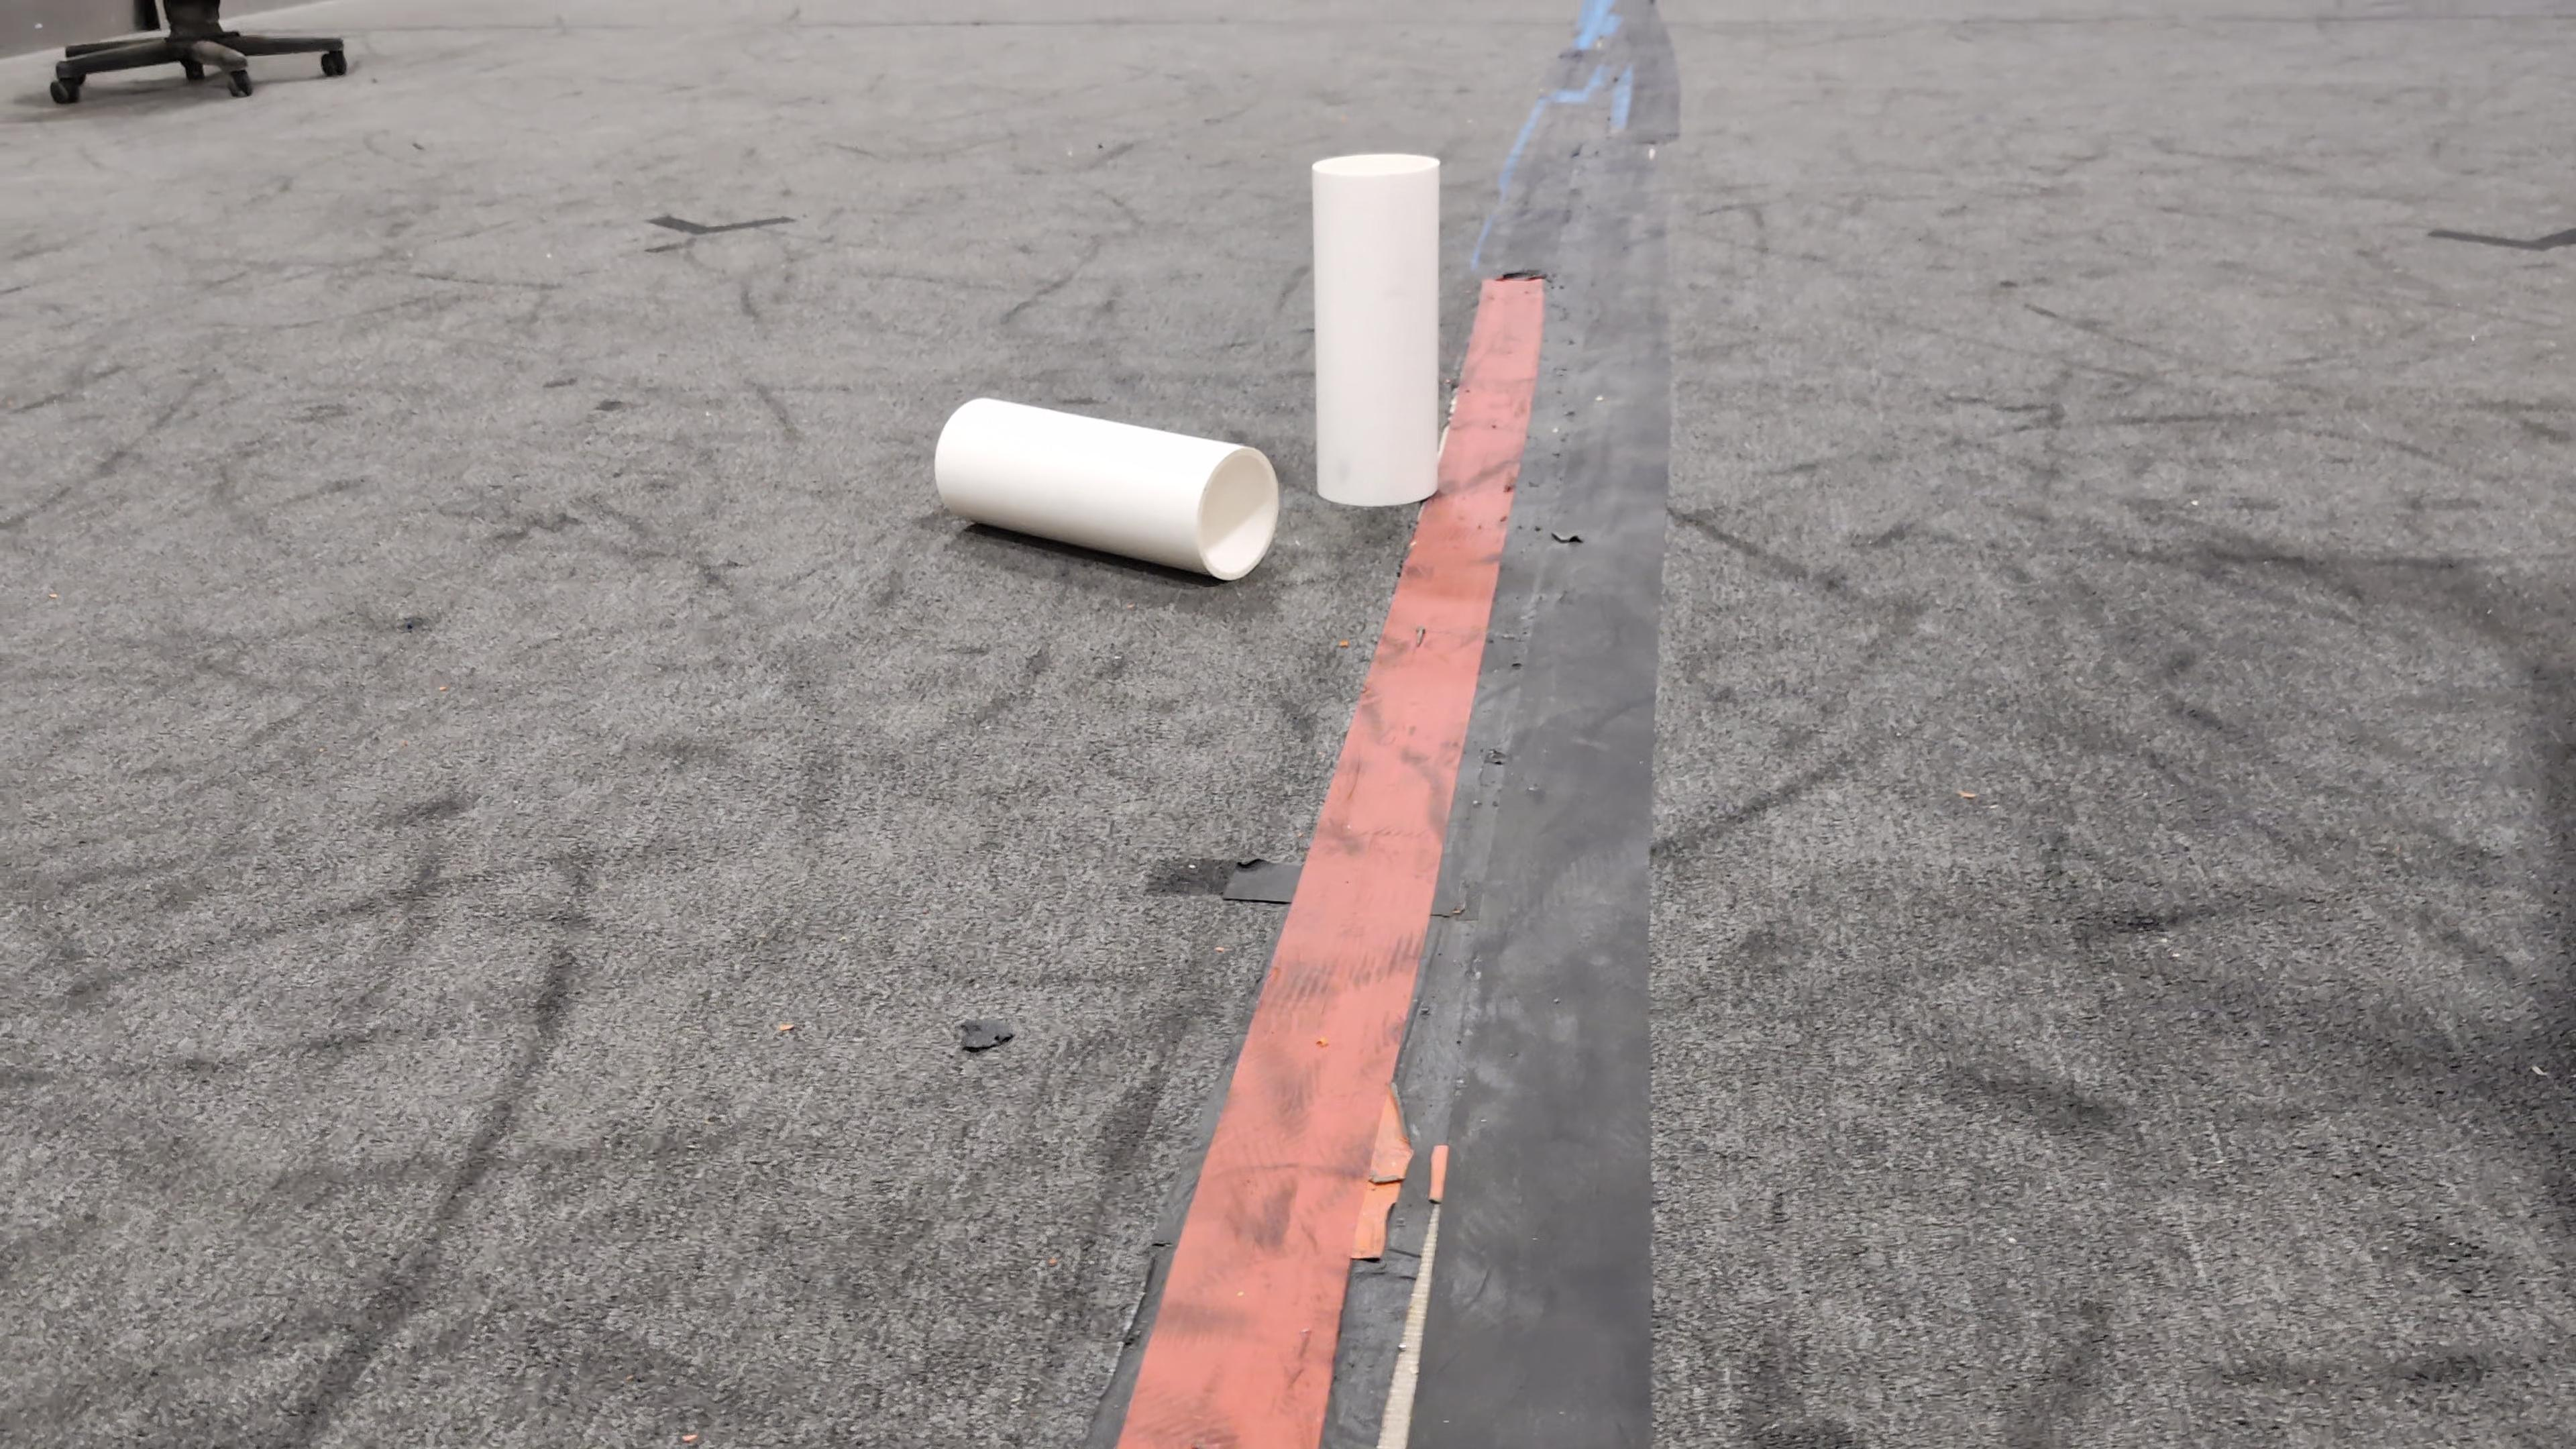coral: (931, 395, 1283, 580), (1311, 145, 1449, 508)
